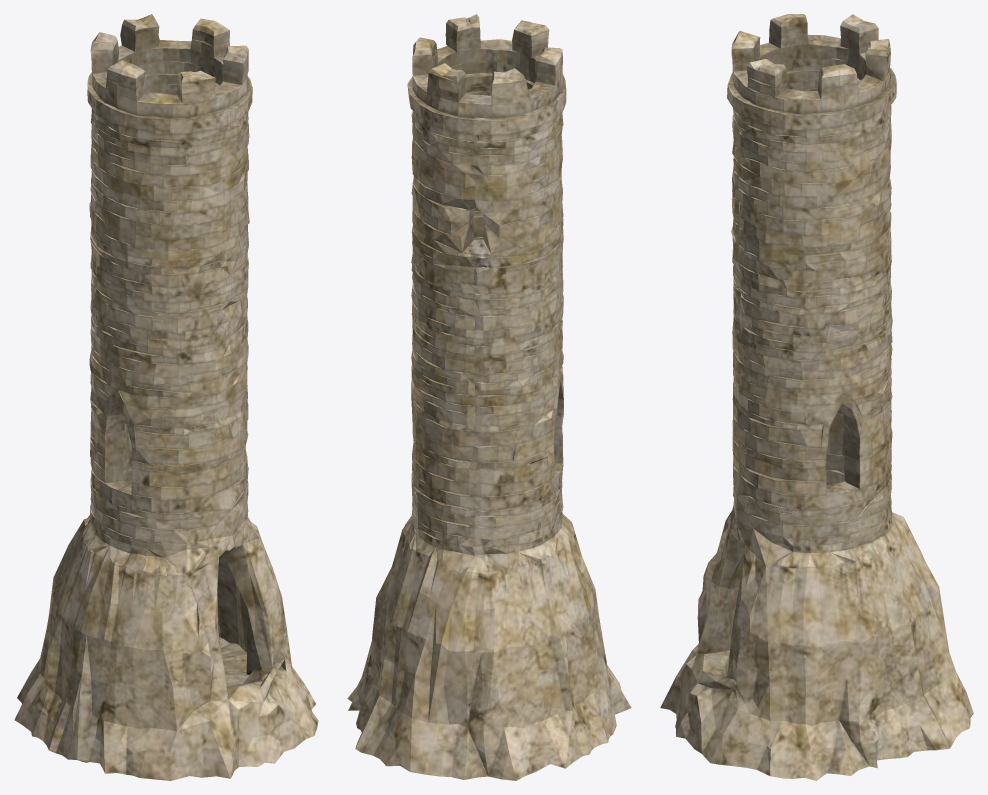
Rendered from torre_ruina.glb.
The picture shows the model from 3 angles, left to right: view 1: azimuth 30°, elevation 25°; view 2: azimuth 150°, elevation 25°; view 3: azimuth 270°, elevation 25°; orthographic projection.
Visible parts, largest first — view 1: small; view 2: small; view 3: small.
Part boxes in pixels (x1,y1,x2,y2): small: (14,14,318,780); small: (347,14,631,780); small: (660,14,973,780).
Size of the model in its own units: 4838 by 12628 by 5250.
1 material, 1 textured.
